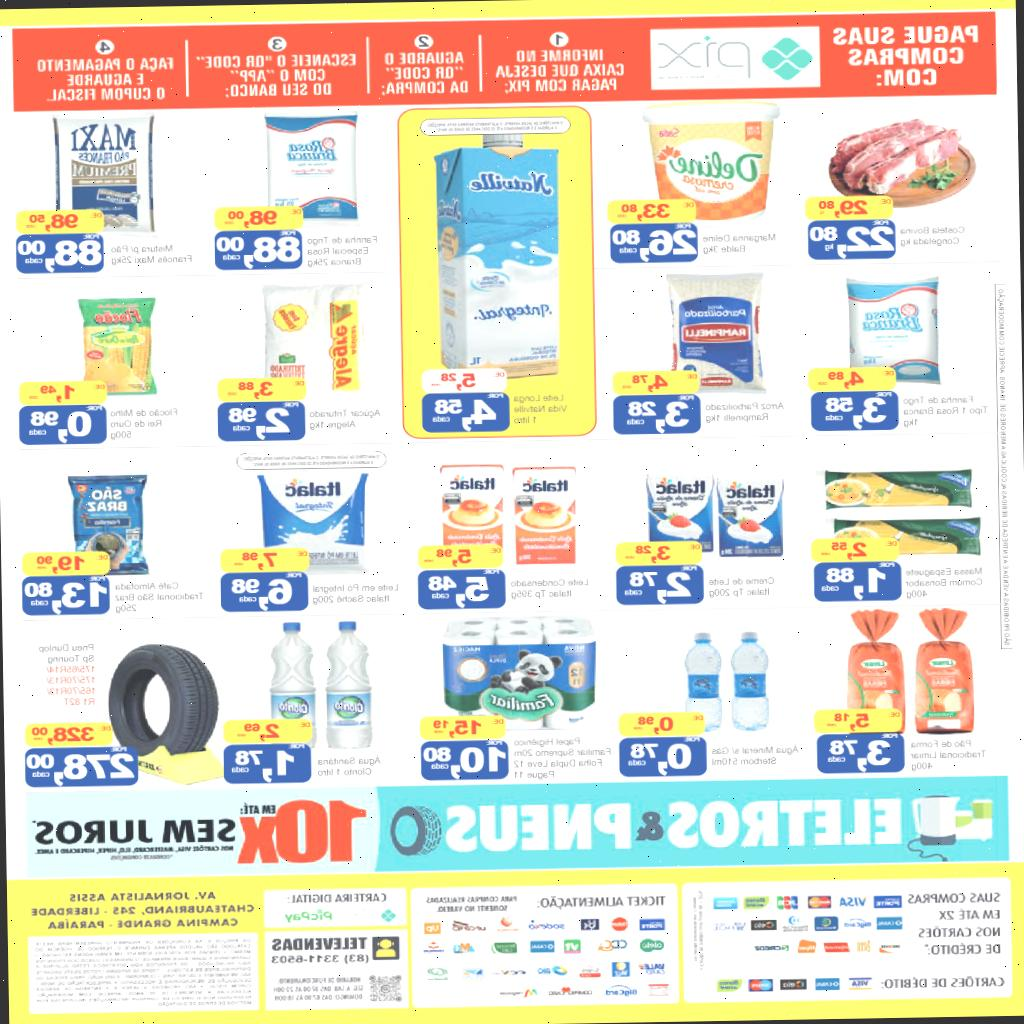price: (25, 751, 135, 786), (610, 227, 697, 263), (216, 235, 302, 270), (16, 238, 104, 272), (808, 224, 894, 258), (422, 744, 508, 778), (24, 580, 108, 614), (621, 569, 695, 605), (625, 740, 693, 777), (824, 738, 894, 773), (23, 410, 95, 444), (226, 576, 294, 612), (430, 398, 499, 433), (818, 566, 888, 600), (822, 396, 890, 430), (228, 748, 296, 782), (624, 399, 690, 434), (426, 574, 492, 608), (227, 406, 292, 439)
product_text: (510, 733, 614, 781), (36, 640, 98, 710), (902, 391, 990, 431), (113, 576, 205, 614), (304, 232, 381, 270), (908, 736, 988, 772), (904, 564, 985, 599), (108, 404, 182, 442), (710, 740, 802, 770), (311, 580, 402, 607), (108, 241, 195, 268), (511, 390, 572, 428), (704, 398, 786, 426), (700, 229, 780, 256), (509, 575, 592, 601), (308, 404, 383, 432), (898, 222, 966, 250), (707, 572, 777, 599), (316, 752, 386, 778)
